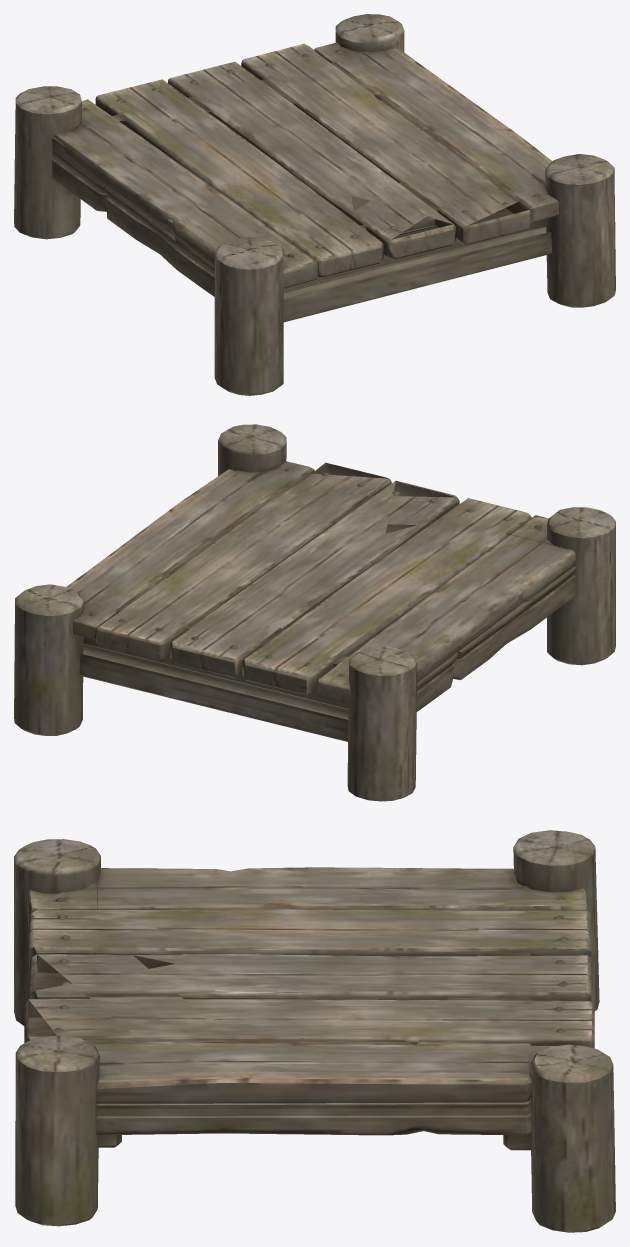
Rendered from landing.glb.
The picture shows the model from 3 angles, top to bottom: view 1: azimuth 30°, elevation 25°; view 2: azimuth 150°, elevation 25°; view 3: azimuth 270°, elevation 25°; orthographic projection. The views are drawn at different scales.
Visible parts, largest first — view 1: tripo_node_a0ebc5f4-df28-4655-82a7-eea9a78c602c; view 2: tripo_node_a0ebc5f4-df28-4655-82a7-eea9a78c602c; view 3: tripo_node_a0ebc5f4-df28-4655-82a7-eea9a78c602c.
Boxes of the visible parts, left/top/right/bottom form: tripo_node_a0ebc5f4-df28-4655-82a7-eea9a78c602c: left=14, top=14, right=615, bottom=395; tripo_node_a0ebc5f4-df28-4655-82a7-eea9a78c602c: left=14, top=424, right=615, bottom=801; tripo_node_a0ebc5f4-df28-4655-82a7-eea9a78c602c: left=14, top=830, right=615, bottom=1232.
Bounding box in the file's own units: 0.9316 × 0.319 × 1.
1 material, 1 textured.
